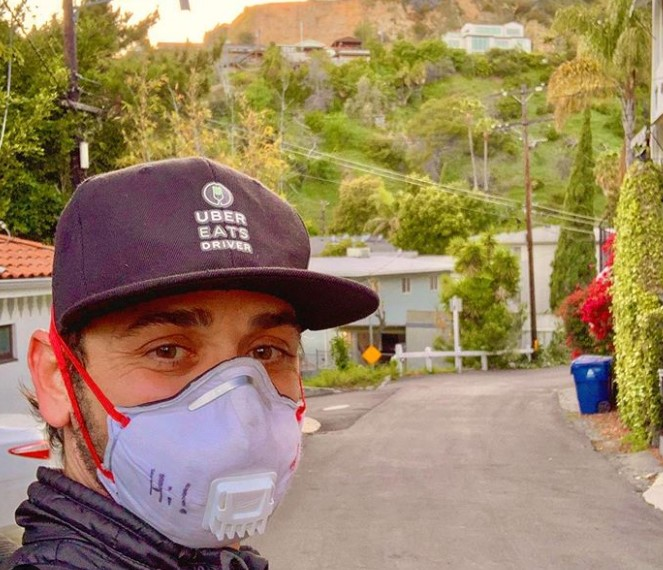face_with_mask: (36, 153, 379, 554)
